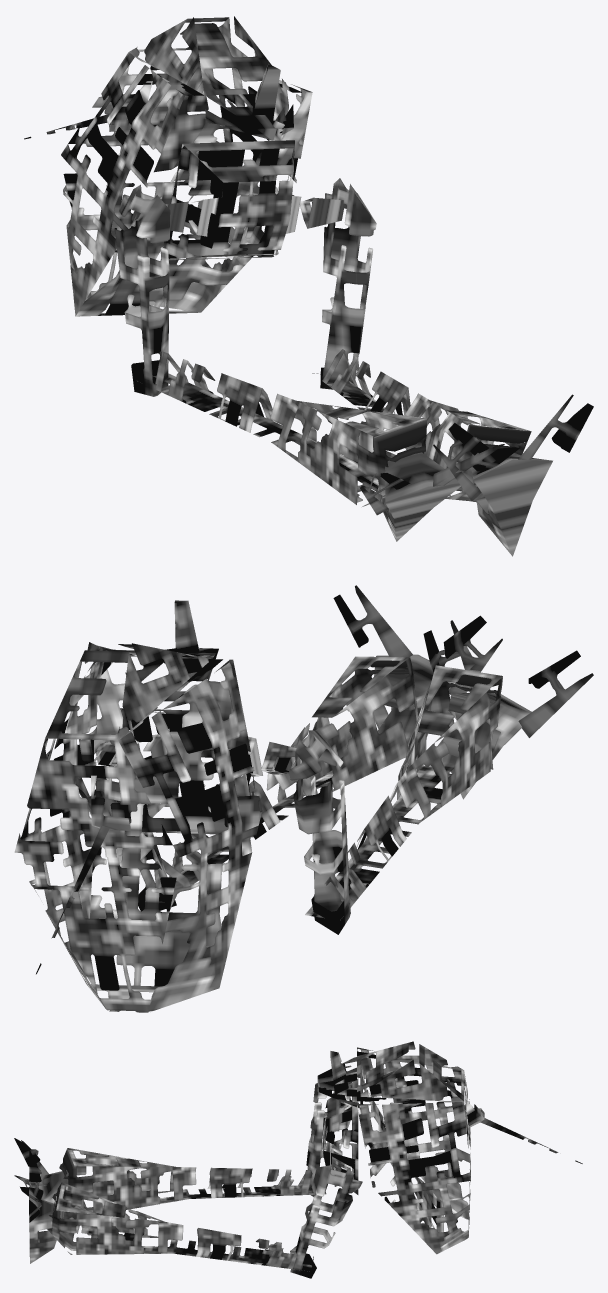
File: flea_wreck_backward.glb
The picture shows the model from 3 angles, top to bottom: view 1: azimuth 30°, elevation 25°; view 2: azimuth 150°, elevation 25°; view 3: azimuth 270°, elevation 25°; orthographic projection. The views are drawn at different scales.
Visible parts, largest first — view 1: fl_llleg; view 2: fl_llleg; view 3: fl_llleg.
Boxes of the visible parts, x1,y1,x2,y2 form: fl_llleg: [24, 16, 593, 556]; fl_llleg: [14, 585, 593, 1012]; fl_llleg: [14, 1041, 582, 1278].
Bounding box in the file's own units: 3.18 × 4.1 × 9.96.
1 material, 1 textured.
